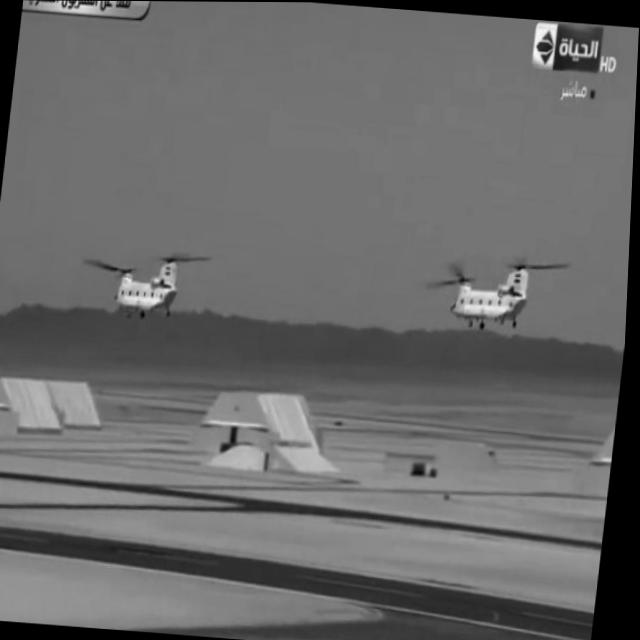helikopter: (425, 226, 565, 356), (87, 225, 213, 338)
